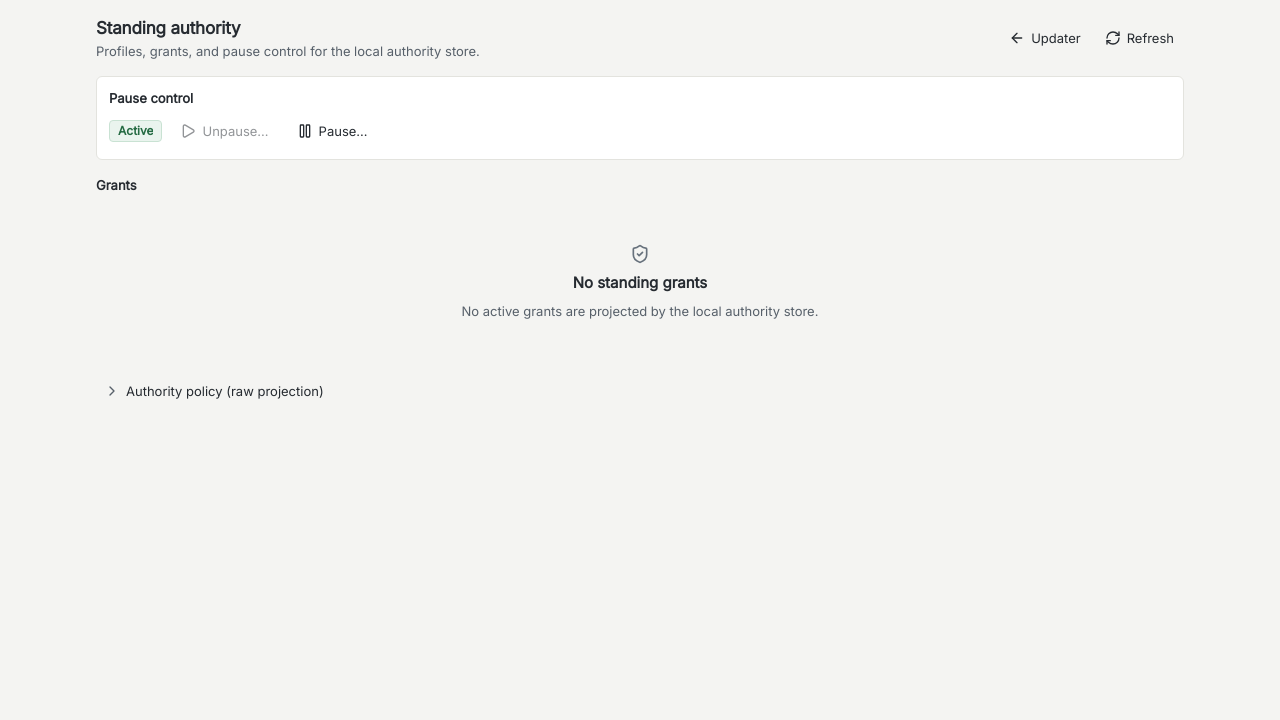
Test: does not claim unchanged authority when a mutation response is lost
Click the button with test id "authority-pause-start": point(332, 131) left=287, top=115, right=378, bottom=147
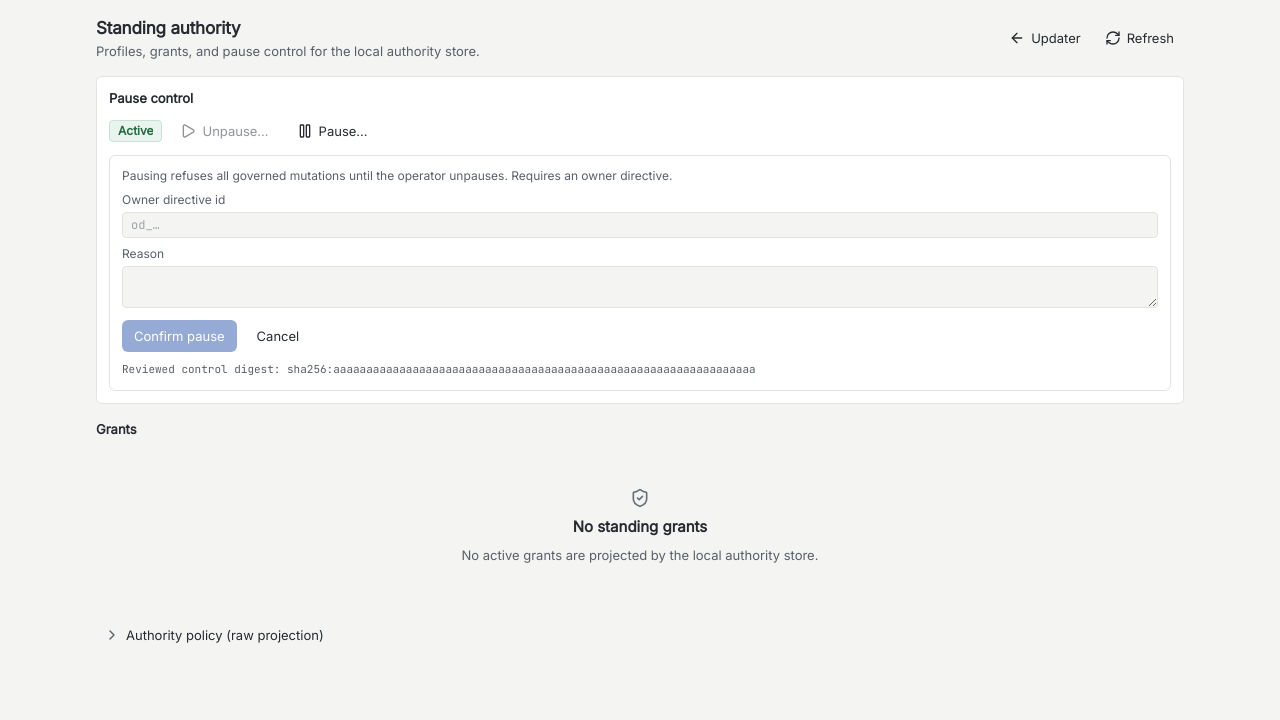
In the field with test id "authority-directive-input": point(640, 225) left=122, top=212, right=1158, bottom=238, type "OD-FIXTURE-001"
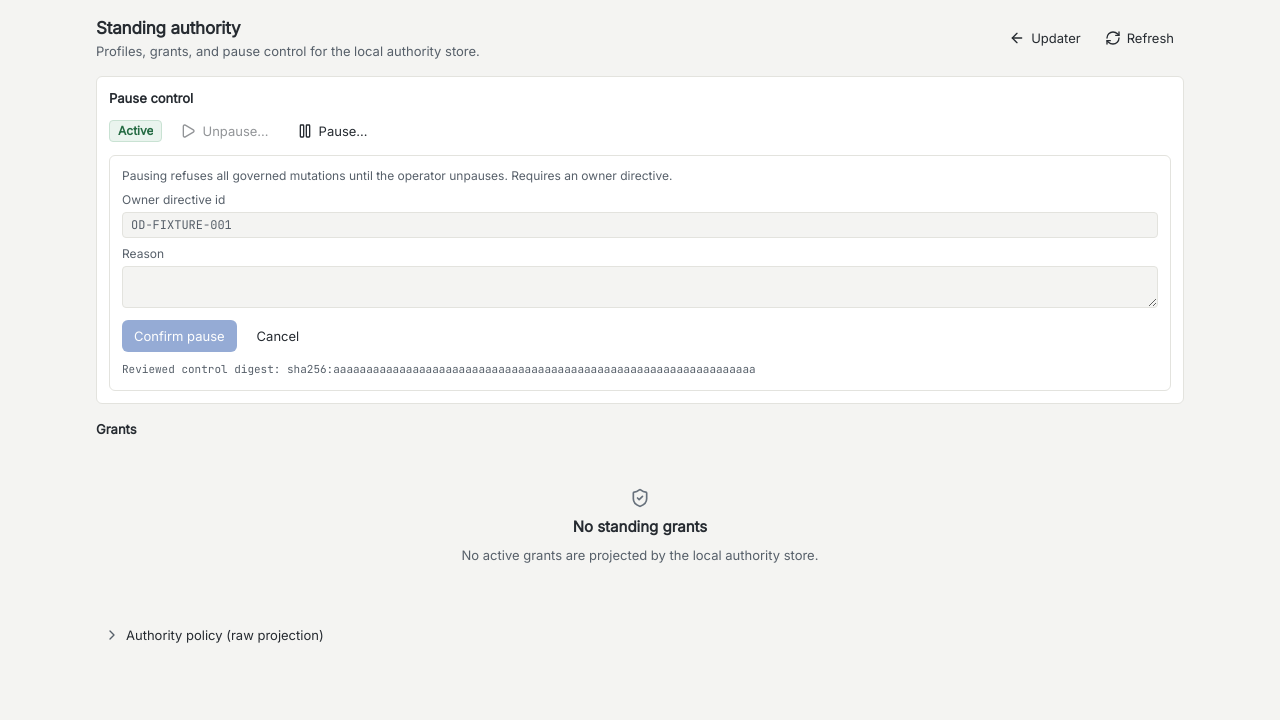
In the text box with test id "authority-reason-input": point(640, 287) left=122, top=266, right=1158, bottom=308, type "reviewed pause"
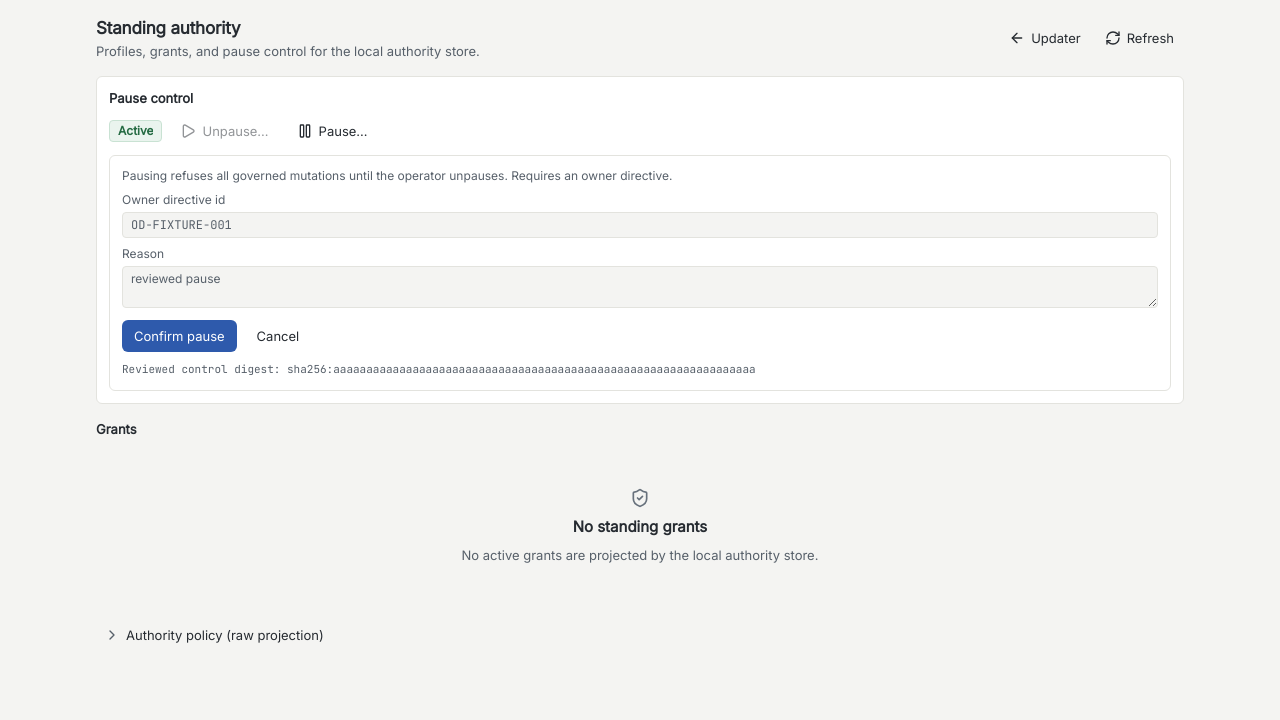
Click the button with test id "authority-pause-confirm": point(179, 336) left=122, top=320, right=237, bottom=352
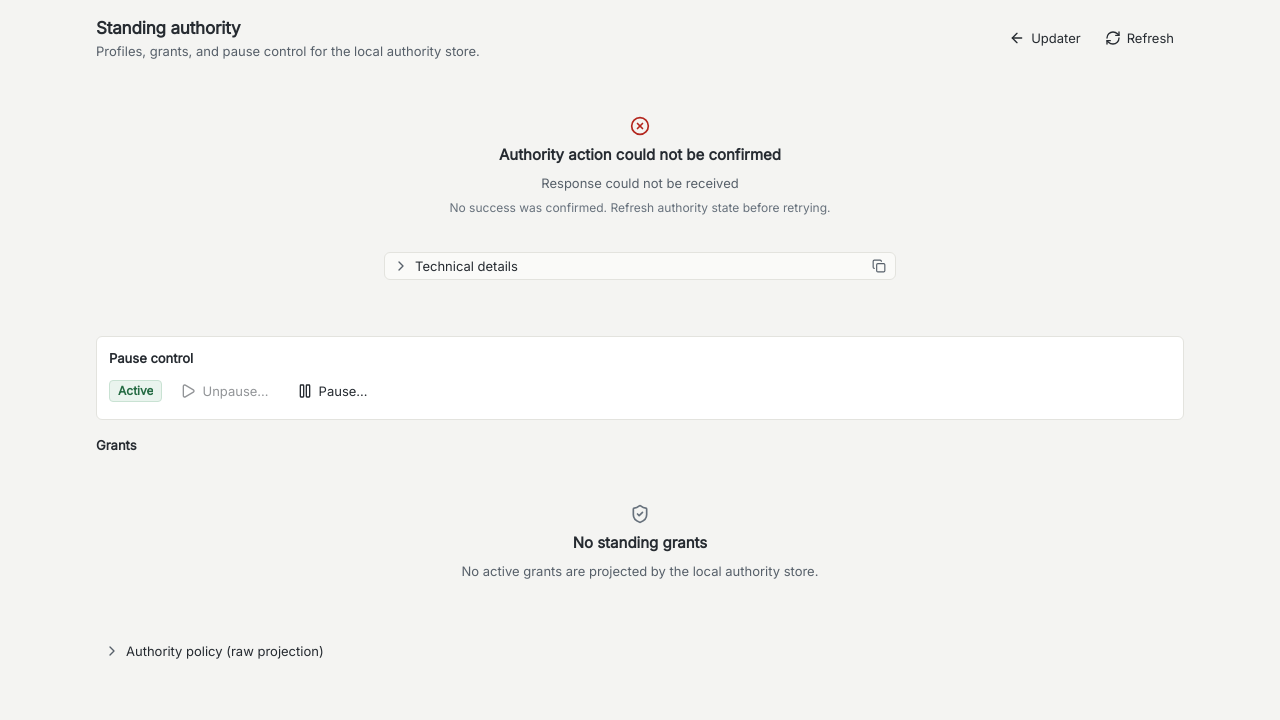
Expected: the text "No success was confirmed. Refresh authority state before retrying." is shown, left=450, top=200, right=830, bottom=216
Click the button "Refresh": point(1139, 38) left=1095, top=22, right=1184, bottom=54
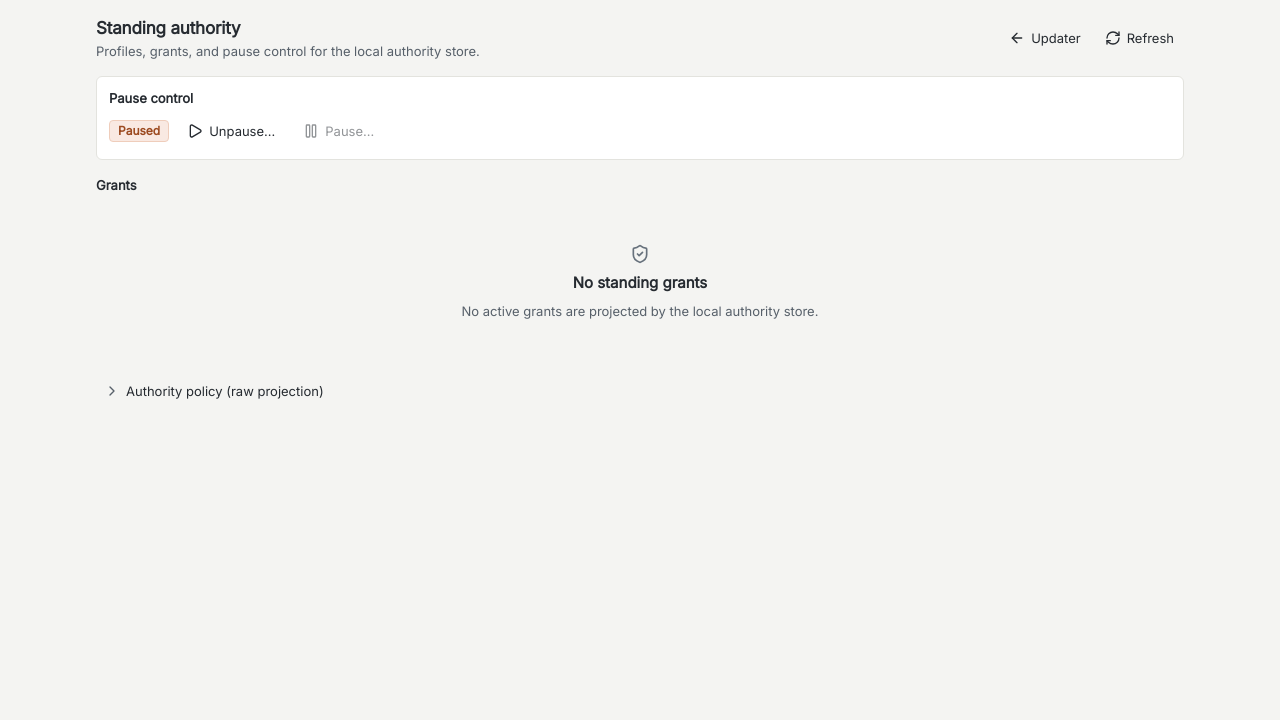
Expected: the button with test id "authority-unpause-start" is enabled, left=177, top=115, right=285, bottom=147
